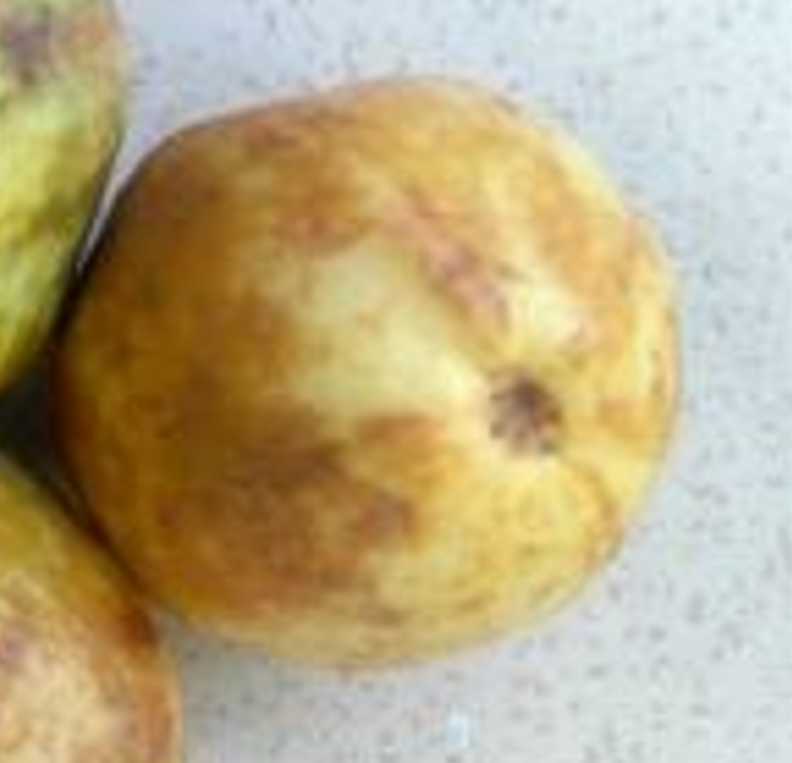guava_C: (38, 70, 684, 668)
